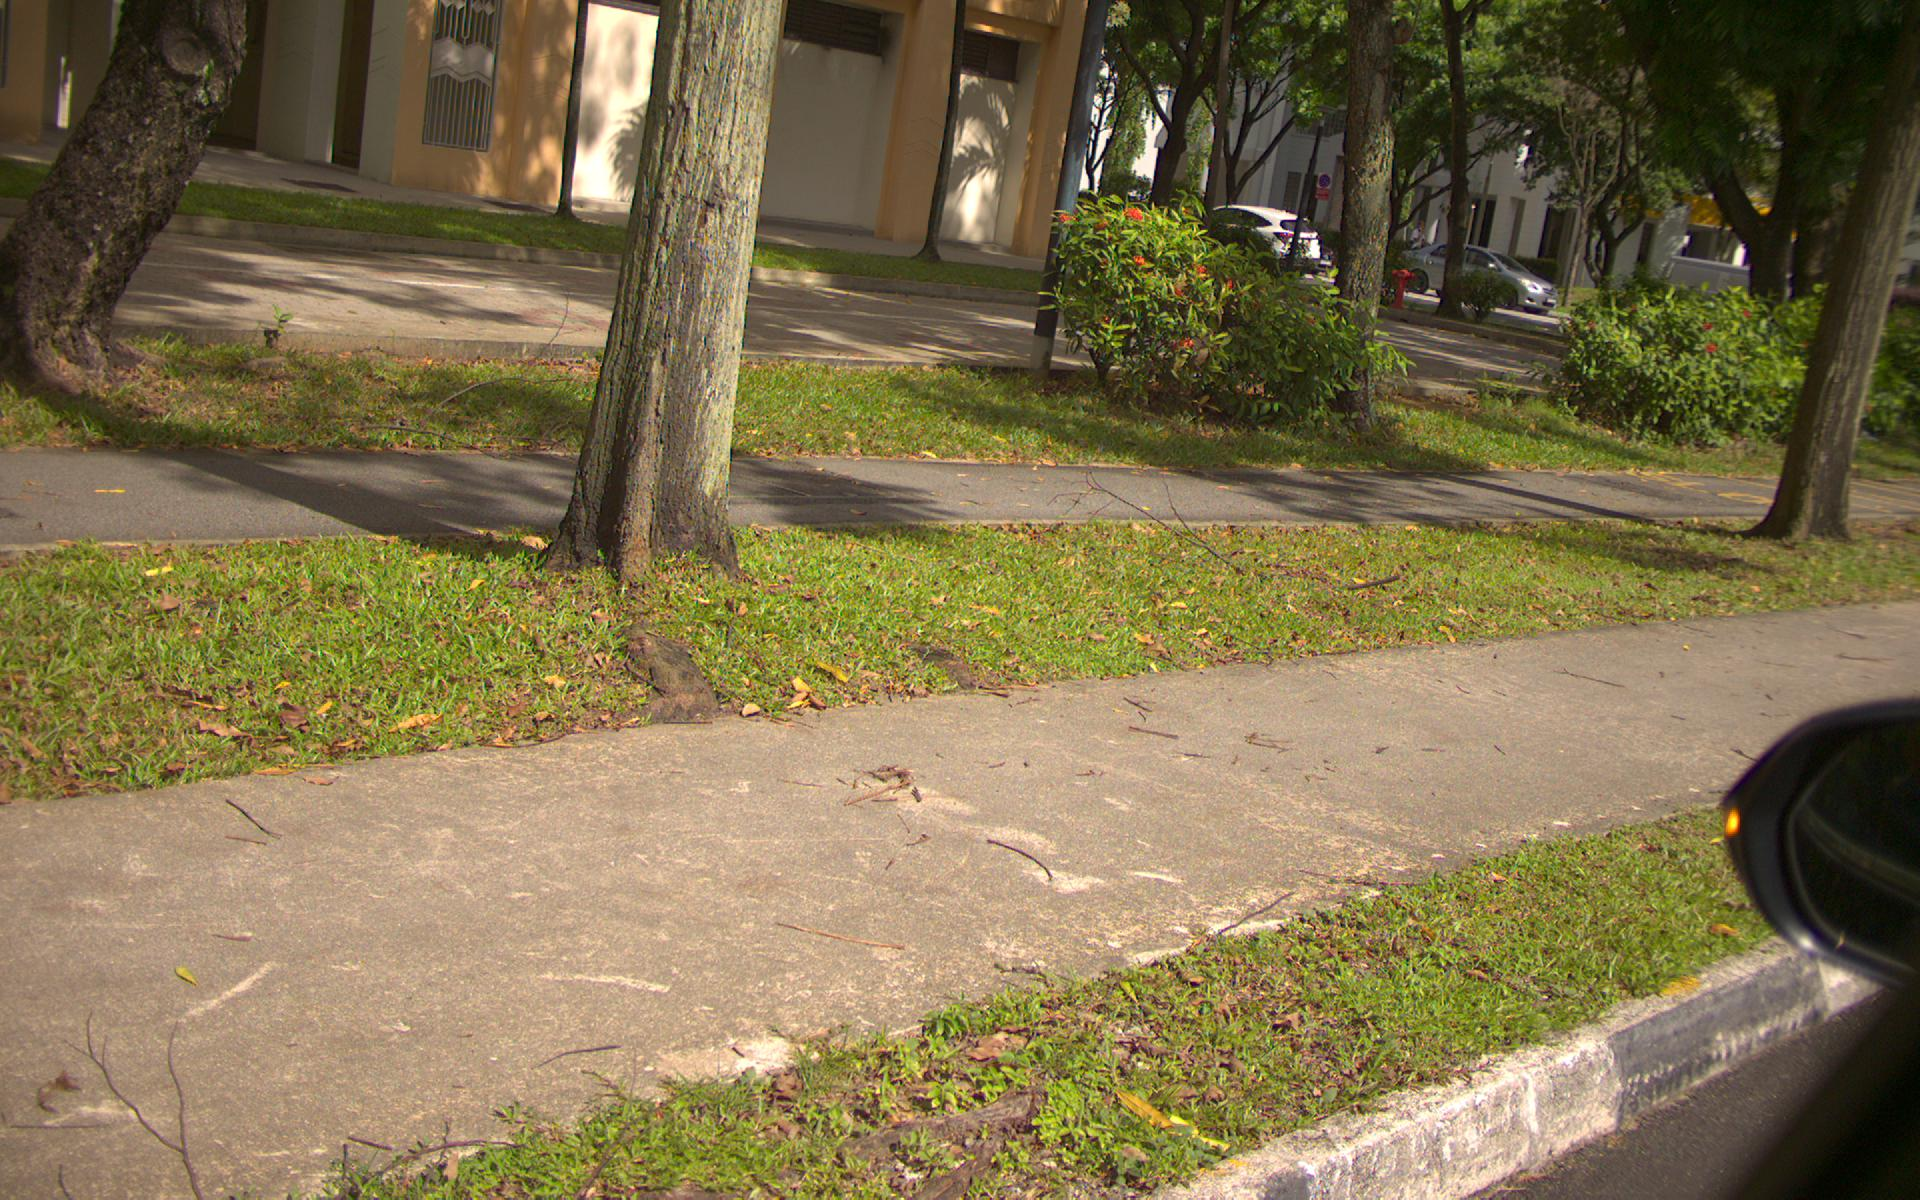pathway_low: (6, 803, 734, 1088), (1, 455, 1057, 521)
road_turf_low: (4, 549, 822, 716), (108, 347, 1223, 462), (839, 525, 1891, 592)
